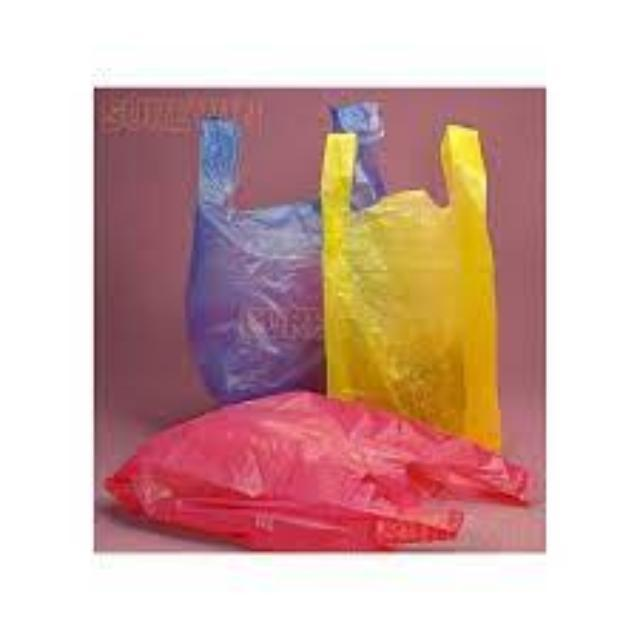Bolsa-de-plastico: (319, 123, 504, 457), (184, 114, 327, 409)
